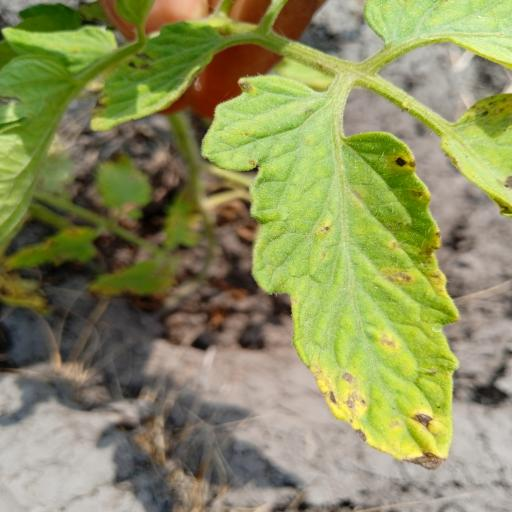Tomato_Brown_Spots: (194, 63, 471, 478)
